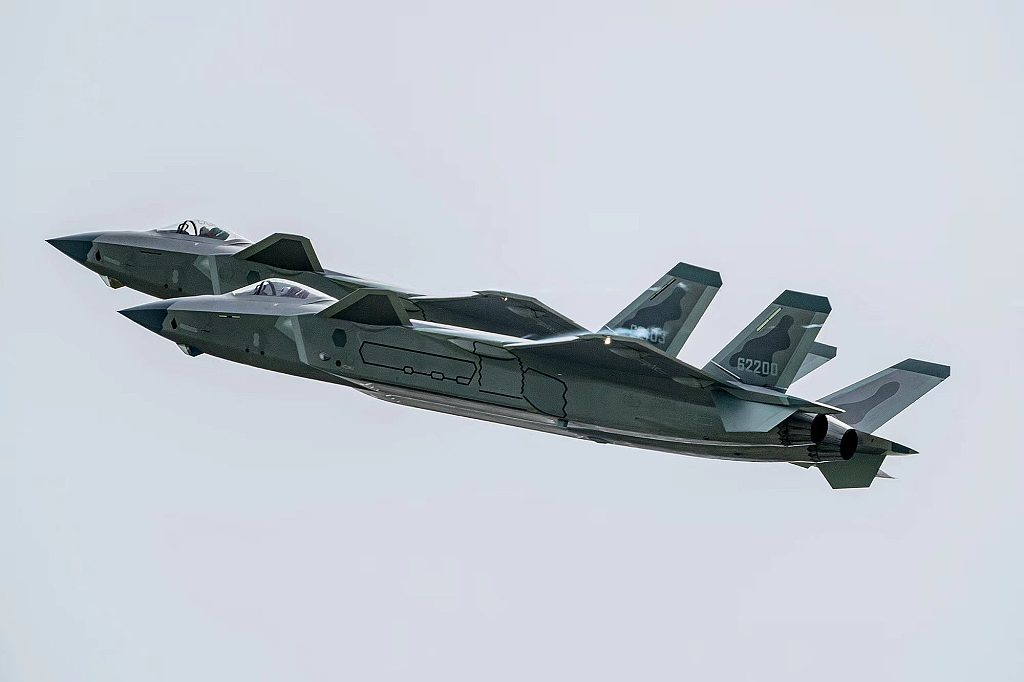J20: (116, 278, 951, 490), (42, 217, 837, 385)
